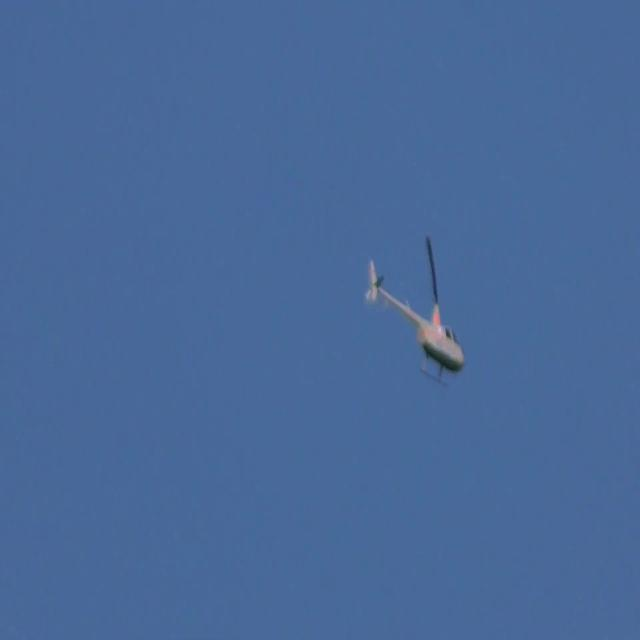CIV_HELO: (368, 259, 464, 388)
